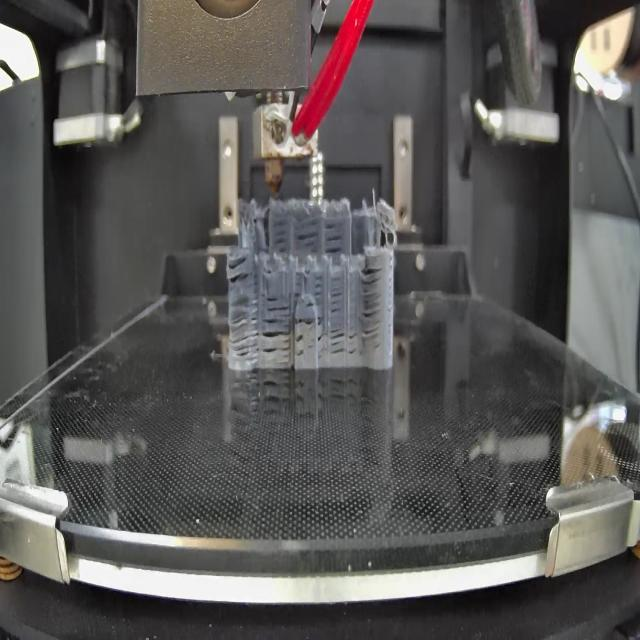cracks: (229, 297, 258, 361), (362, 262, 384, 344), (262, 317, 290, 362), (227, 251, 253, 285), (296, 219, 320, 253), (330, 326, 359, 354), (329, 275, 346, 317), (274, 217, 293, 254), (324, 220, 344, 254), (268, 289, 292, 316), (317, 311, 325, 354), (293, 270, 303, 301), (295, 316, 317, 327), (297, 333, 305, 360), (314, 273, 323, 296), (305, 300, 317, 310)
